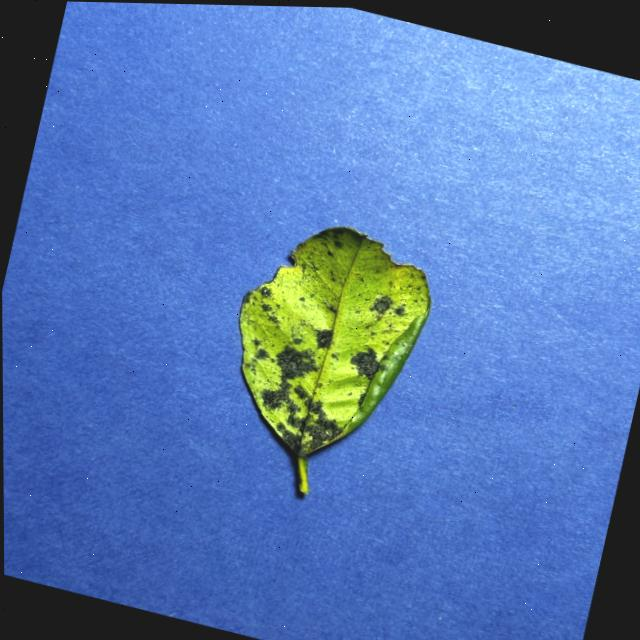sooty_mold: (239, 226, 429, 491)
